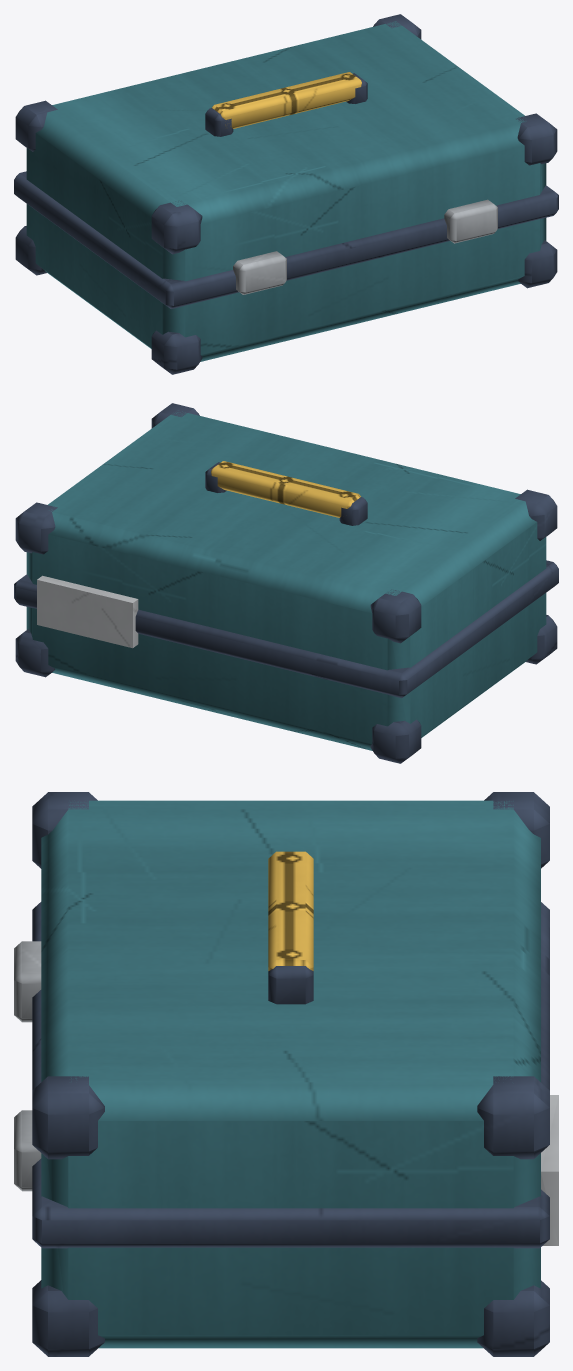
Rendered from hard_case.glb.
The picture shows the model from 3 angles, top to bottom: view 1: azimuth 30°, elevation 25°; view 2: azimuth 150°, elevation 25°; view 3: azimuth 270°, elevation 25°; orthographic projection. The views are drawn at different scales.
Visible parts, largest first — view 1: DL018_HardCase_teal_shell, DL018_HardCase_graphite_navy, DL018_HardCase_amber_accent, DL018_HardCase_titanium; view 2: DL018_HardCase_teal_shell, DL018_HardCase_graphite_navy, DL018_HardCase_hull_offwhite, DL018_HardCase_amber_accent; view 3: DL018_HardCase_teal_shell, DL018_HardCase_graphite_navy, DL018_HardCase_amber_accent, DL018_HardCase_titanium, DL018_HardCase_hull_offwhite.
Boxes of the visible parts, box(x1,y1,x2,y2) form: DL018_HardCase_teal_shell: box(26, 21, 546, 361); DL018_HardCase_graphite_navy: box(14, 14, 558, 374); DL018_HardCase_amber_accent: box(212, 72, 361, 128); DL018_HardCase_titanium: box(233, 199, 497, 294); DL018_HardCase_teal_shell: box(26, 410, 546, 750); DL018_HardCase_graphite_navy: box(14, 403, 558, 763); DL018_HardCase_hull_offwhite: box(37, 575, 138, 648); DL018_HardCase_amber_accent: box(211, 461, 360, 517); DL018_HardCase_teal_shell: box(41, 800, 540, 1348); DL018_HardCase_graphite_navy: box(32, 792, 549, 1356); DL018_HardCase_amber_accent: box(268, 851, 313, 970); DL018_HardCase_titanium: box(14, 941, 41, 1191); DL018_HardCase_hull_offwhite: box(541, 1095, 558, 1245).
Size of the model in its own units: 0.82 by 0.365 by 0.6.
Materials: 5 (5 with a texture image).
